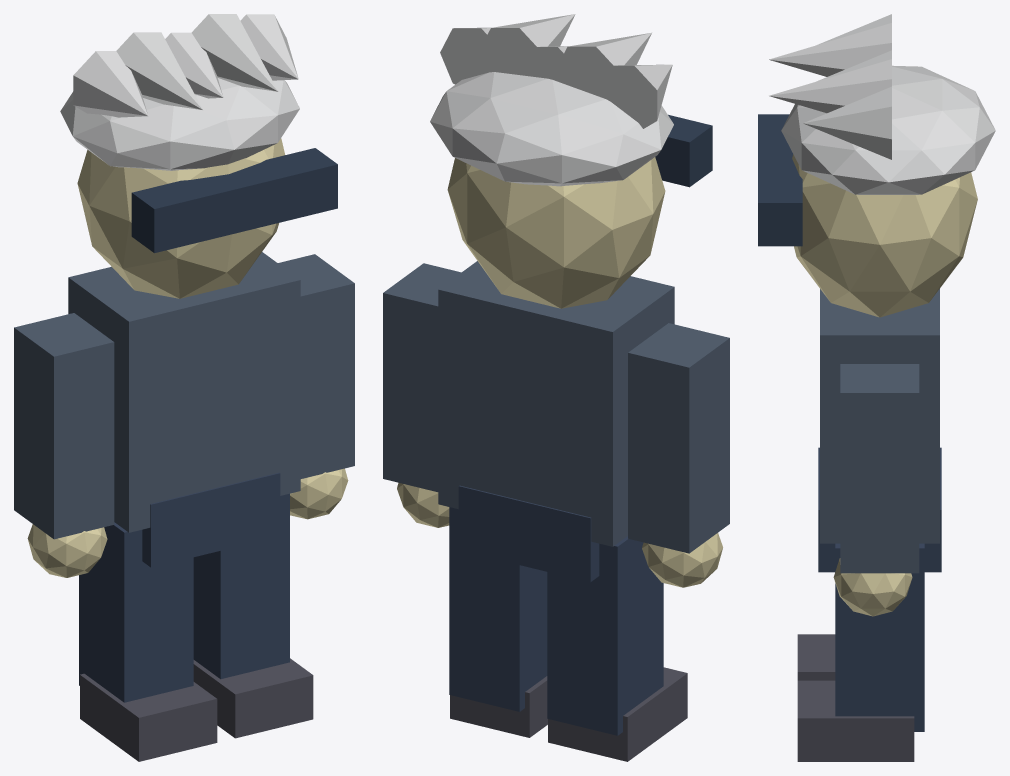
Rendered from gojo.glb.
The picture shows the model from 3 angles, left to right: view 1: azimuth 30°, elevation 25°; view 2: azimuth 150°, elevation 25°; view 3: azimuth 270°, elevation 25°; orthographic projection. The views are drawn at different scales.
Parts seen in each view (by area): view 1: part_000, part_002, part_004, part_010, part_013, part_019, part_008, part_006, part_001, part_005, part_009, part_015 (+6 smaller); view 2: part_000, part_010, part_002, part_013, part_004, part_008, part_006, part_001, part_005, part_015, part_017, part_014 (+6 smaller); view 3: part_010, part_006, part_013, part_000, part_008, part_009, part_019, part_018, part_015, part_017, part_007, part_005 (+1 smaller).
Part boxes in pixels (<box>): part_000: <box>68,252,300,532</box>; part_002: <box>14,313,114,539</box>; part_004: <box>79,522,193,702</box>; part_010: <box>77,138,284,298</box>; part_013: <box>60,78,299,170</box>; part_019: <box>131,148,337,253</box>; part_008: <box>193,493,289,679</box>; part_006: <box>278,254,354,478</box>; part_001: <box>142,472,280,567</box>; part_005: <box>80,673,217,761</box>; part_009: <box>193,658,313,738</box>; part_015: <box>116,32,202,109</box>; part_000: <box>438,261,674,546</box>; part_010: <box>447,157,665,308</box>; part_002: <box>628,323,729,553</box>; part_013: <box>430,72,673,186</box>; part_004: <box>547,536,663,735</box>; part_008: <box>449,507,547,711</box>; part_006: <box>383,263,461,492</box>; part_001: <box>458,485,599,582</box>; part_005: <box>548,667,687,761</box>; part_015: <box>555,32,651,101</box>; part_017: <box>478,14,575,77</box>; part_014: <box>593,64,672,128</box>; part_010: <box>792,154,977,317</box>; part_006: <box>840,364,919,573</box>; part_013: <box>781,65,995,194</box>; part_000: <box>820,289,939,543</box>; part_008: <box>835,543,924,731</box>; part_009: <box>797,680,914,761</box>; part_019: <box>758,114,802,246</box>; part_018: <box>803,86,891,159</box>; part_015: <box>769,23,891,76</box>; part_017: <box>769,59,891,113</box>; part_007: <box>833,558,912,616</box>; part_005: <box>797,634,835,680</box>.
Size of the model in its own units: 1.03 by 2.17 by 0.6928.
